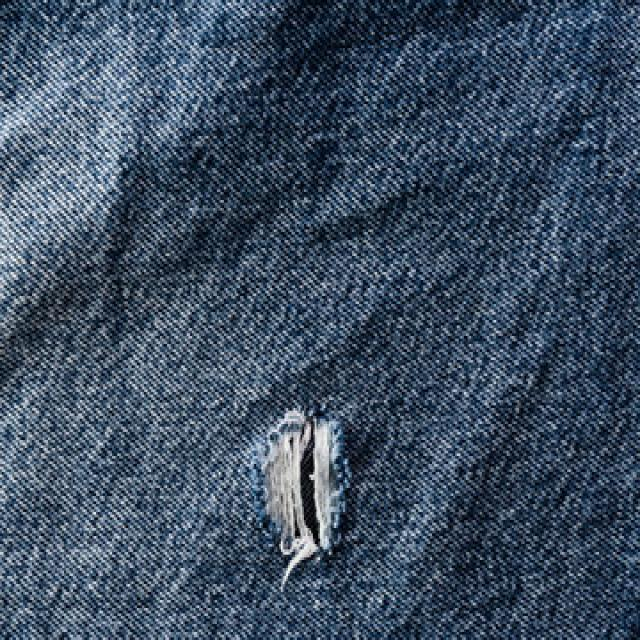Hole: (252, 410, 350, 564)
